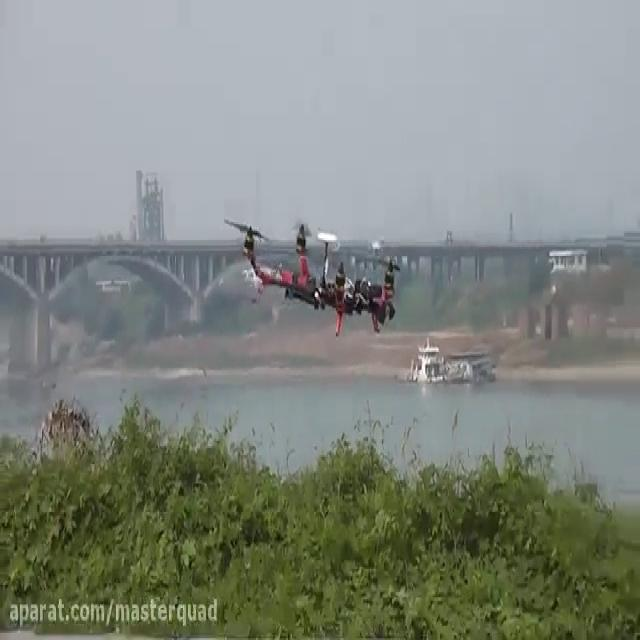drone: (217, 215, 401, 338)
